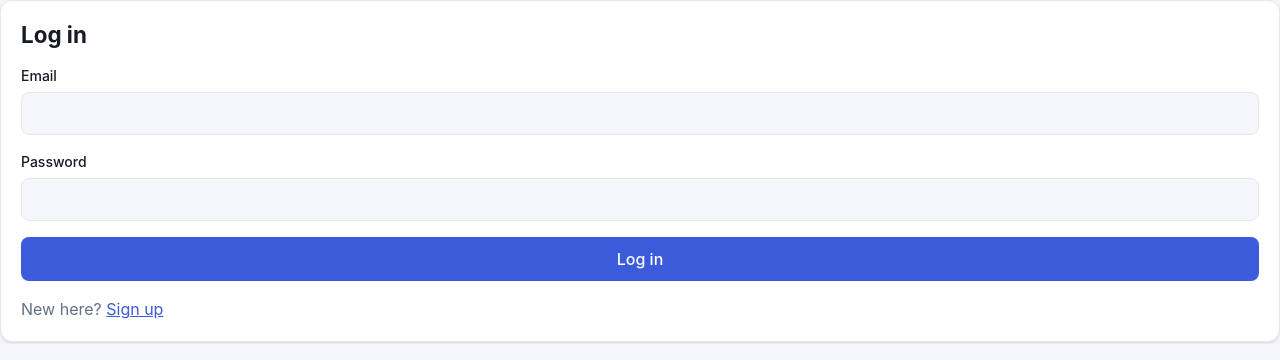
first-login verification › shows the server's message for a wrong code
Type "a@x.com" into the field labelled "Email".
click(640, 114); type("a@x.com")  # box [21,92,1259,135]
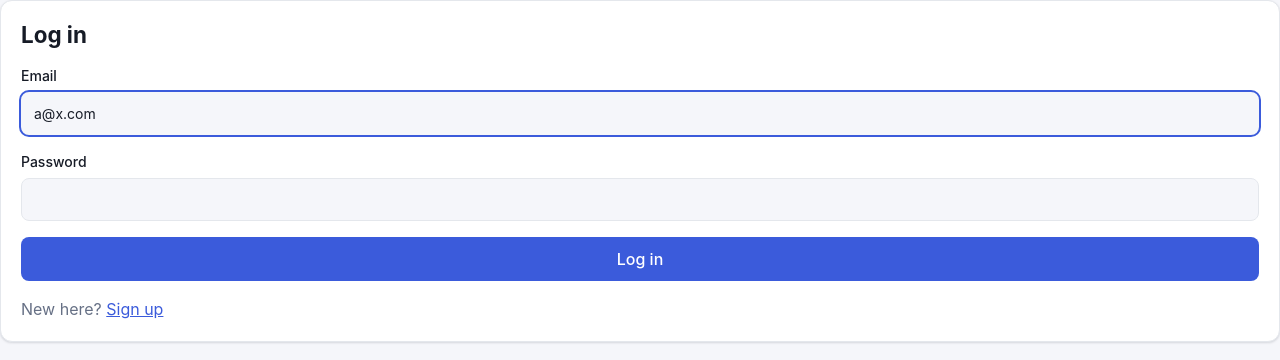
Type "secret-pass-1" into the password field labelled "Password".
click(640, 200); type("secret-pass-1")  # box [21,178,1259,221]
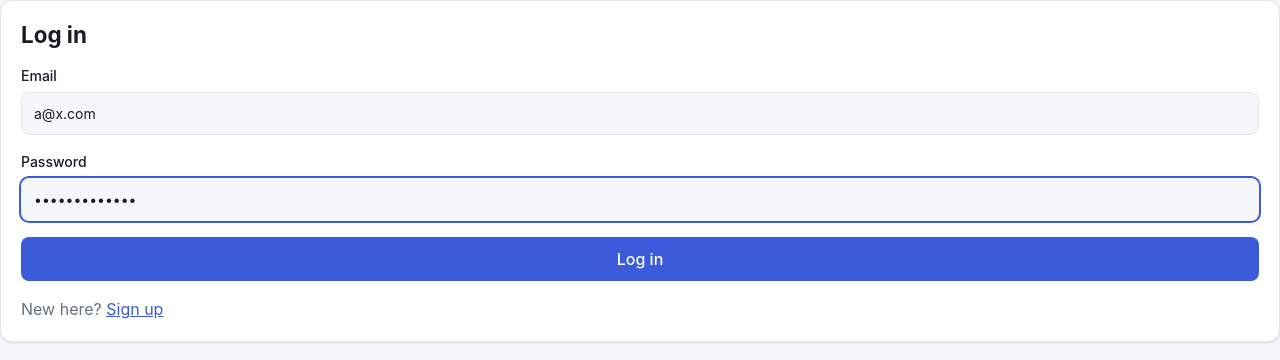
Click the button "Log in".
click(640, 259)  # box [21,237,1259,281]
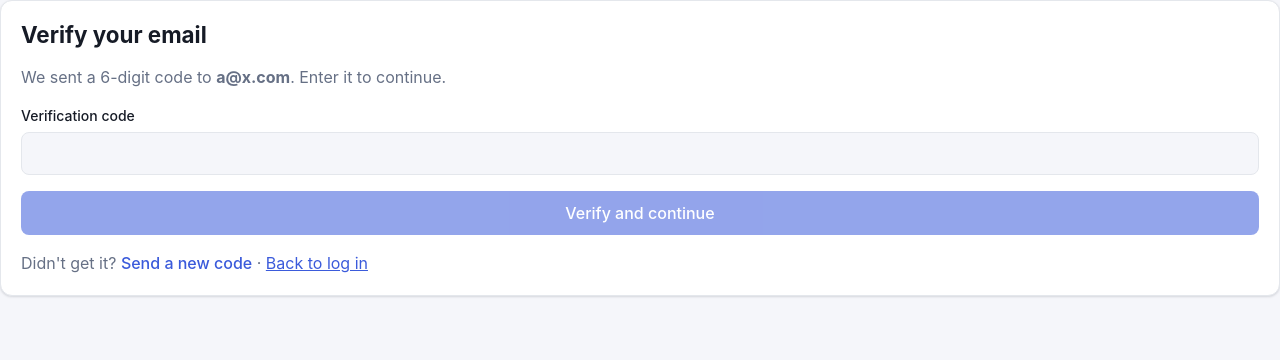
Type "000000" into the field labelled "Verification code".
click(640, 154); type("000000")  # box [21,132,1259,175]
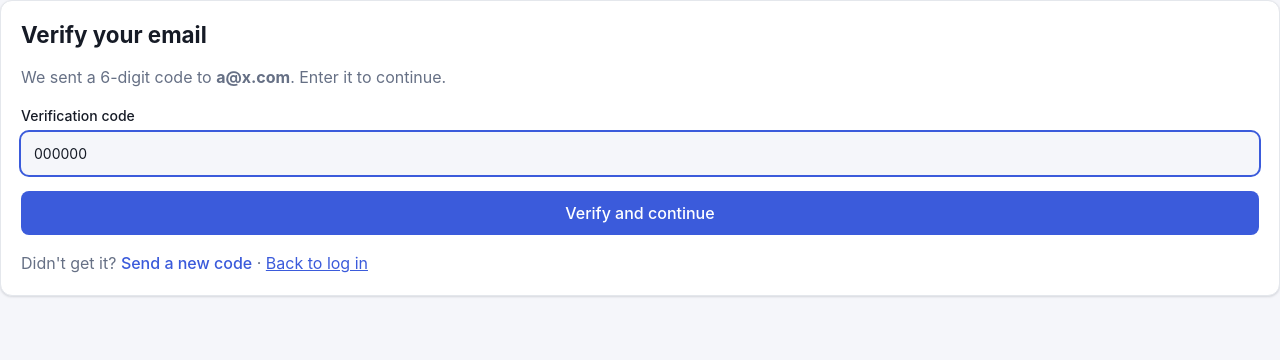
Click the button "Verify and continue".
click(640, 213)  # box [21,191,1259,235]
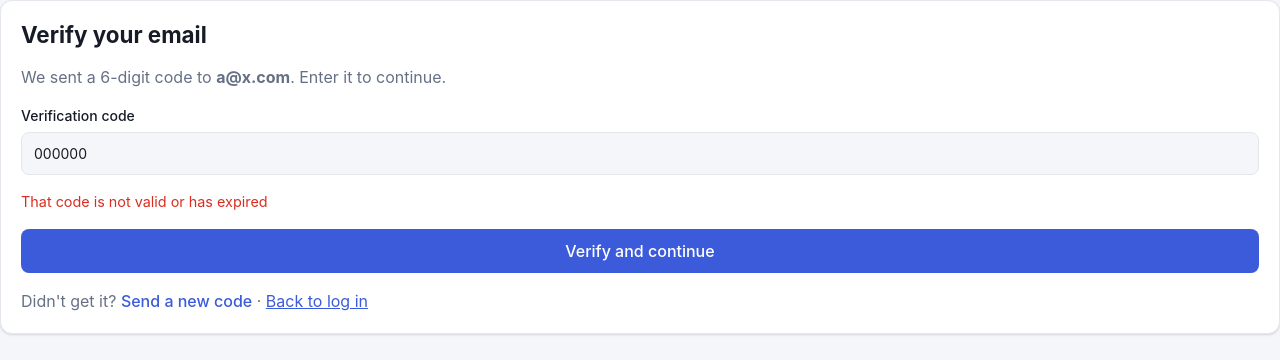
Expected: the message shows "not valid or has expired", [21,193,268,210]
